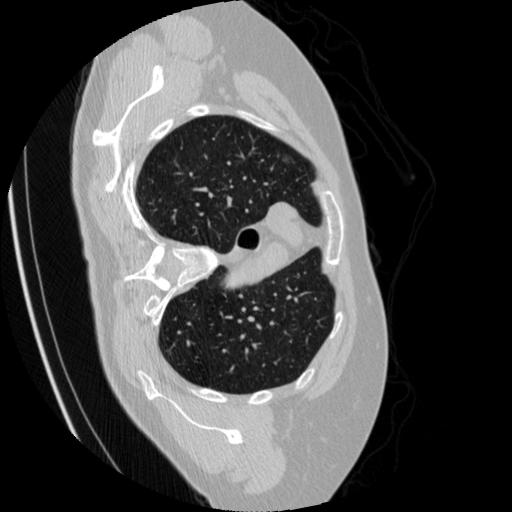nodule: (281, 152, 296, 167)
